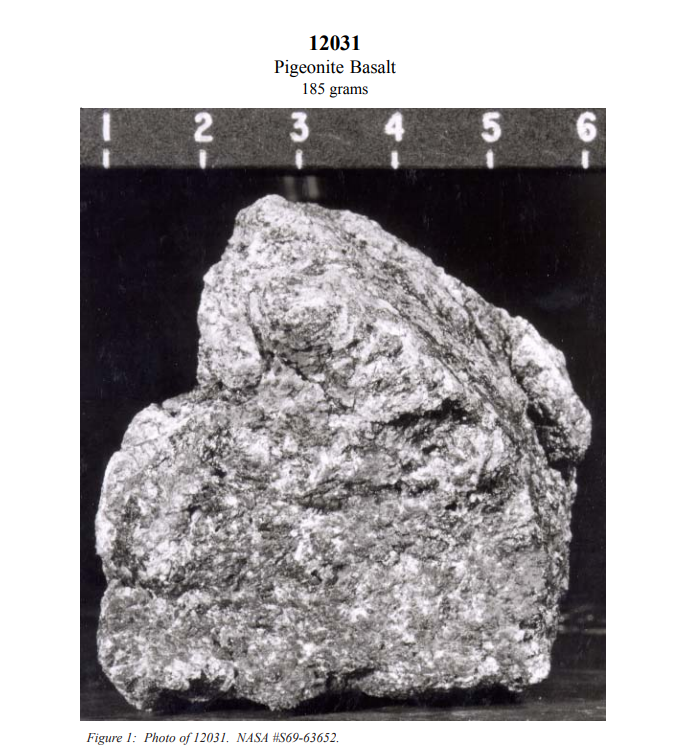Basalt: (78, 166, 601, 719)
